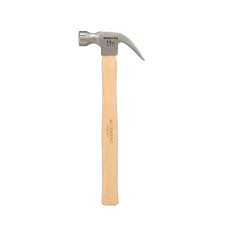hammer: (77, 29, 145, 206)
